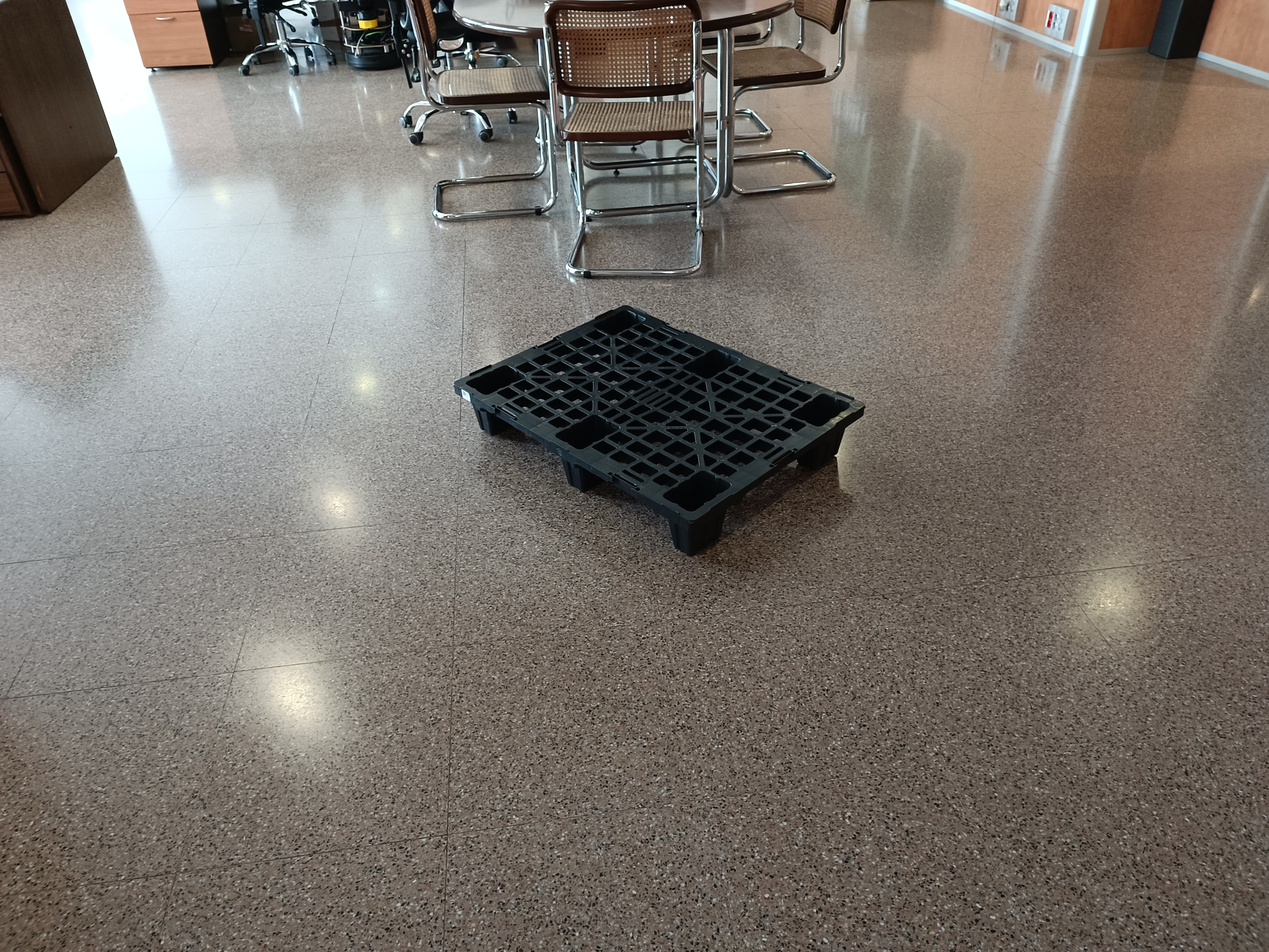block: (666, 499, 722, 553), (558, 458, 609, 501), (473, 398, 519, 445)
front: (460, 384, 693, 571)
hole pallet: (596, 478, 670, 546), (509, 420, 561, 478)
